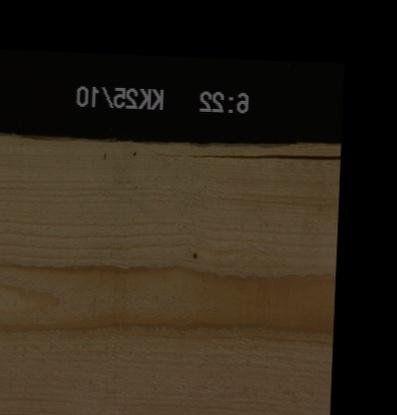small_knot: (187, 248, 200, 261)
split: (151, 144, 339, 162)
